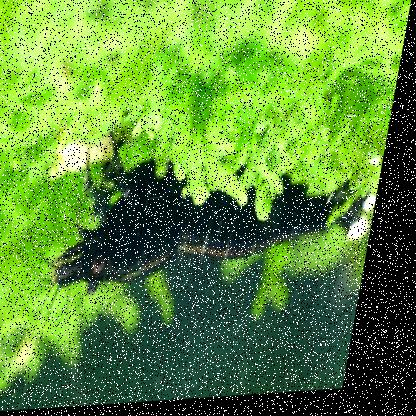shrimp: (58, 111, 386, 295)
